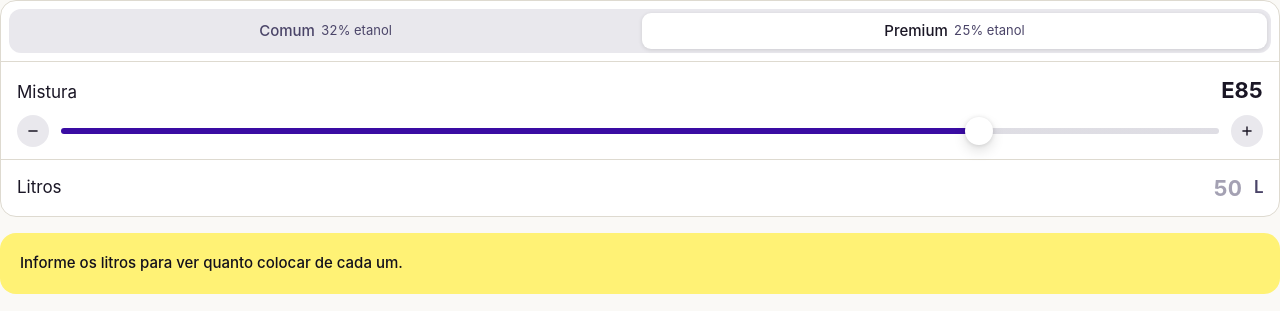
Test: Calculator › o mínimo do slider é o etanol que já vem na gasolina
Set the slider labelled "Mistura" to "28" at (115, 131), box 61,117 -> 1219,145
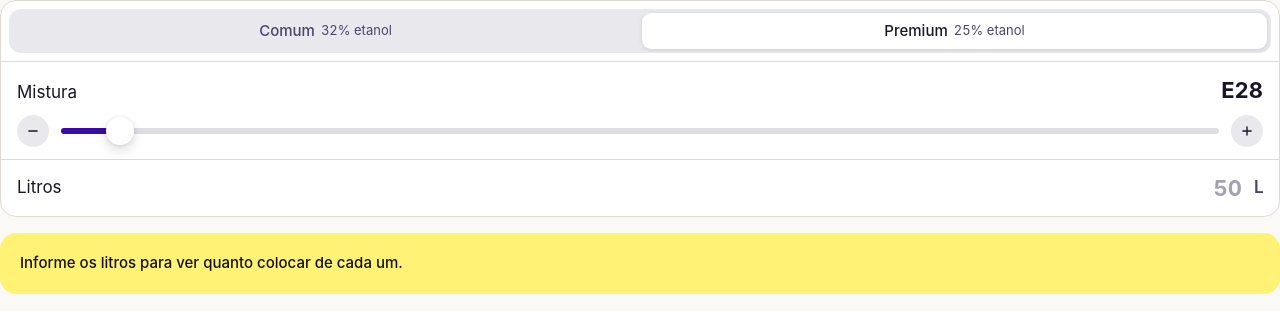
Note: Trocar para a comum (32%) puxa a mistura para o novo mínimo.
Click the radio button labelled "Comum 32% etanol" at (326, 30), box 259,21 -> 392,40
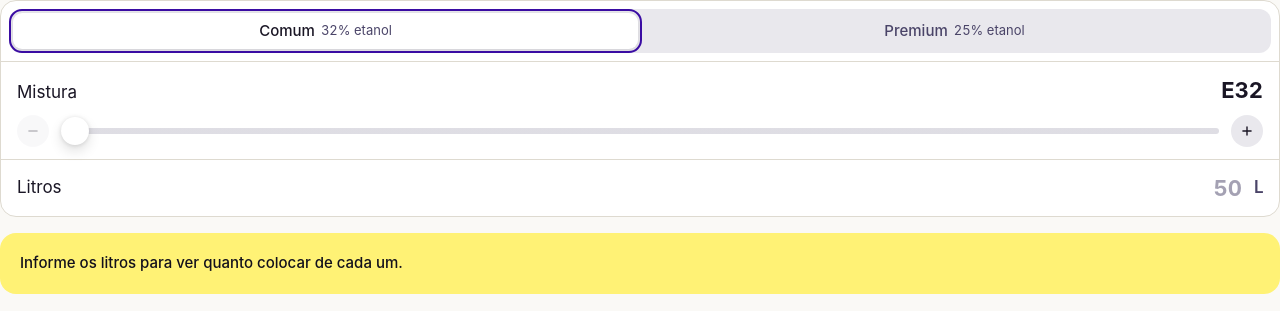
Result: the slider labelled "Mistura" holds "32" at 61,117 -> 1219,145
